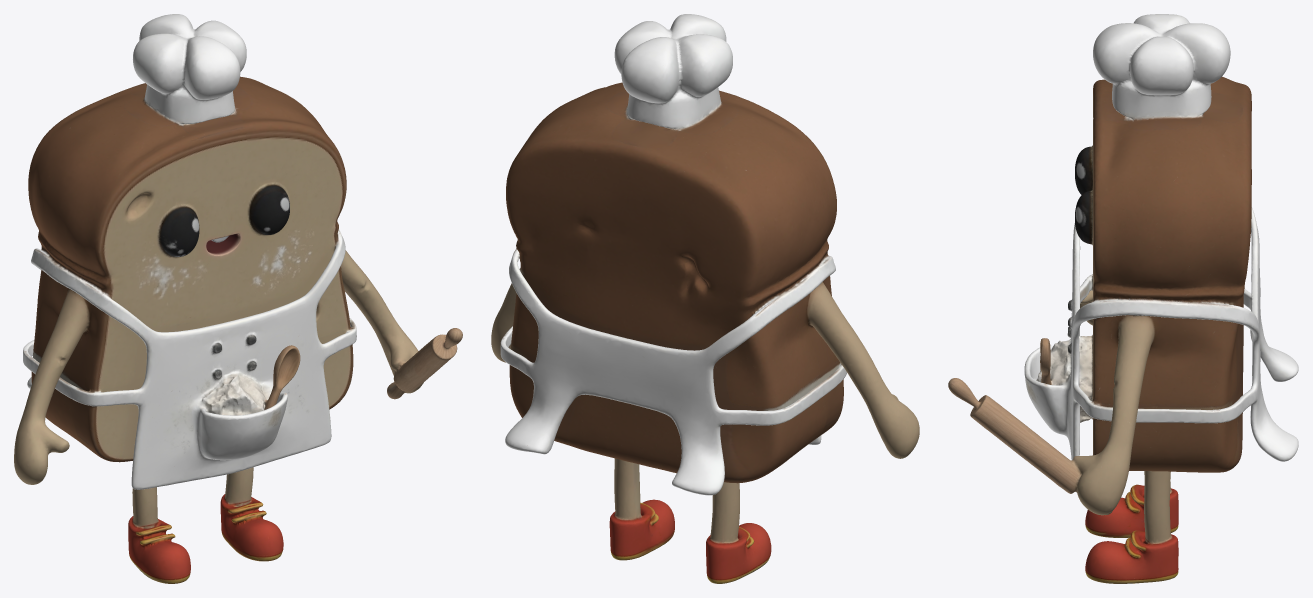
Rendered from tiny-baker.glb.
The picture shows the model from 3 angles, left to right: view 1: azimuth 30°, elevation 25°; view 2: azimuth 150°, elevation 25°; view 3: azimuth 270°, elevation 25°; orthographic projection. The views are drawn at different scales.
Size of the model in its own units: 1.56 by 1.9 by 1.15.
Materials: 1 (1 with a texture image).
